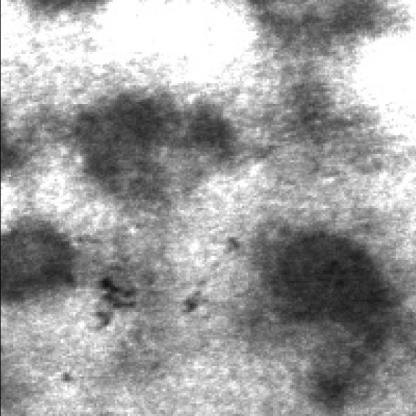patches: (266, 237, 408, 410), (260, 2, 397, 156), (75, 94, 239, 206), (6, 220, 94, 306)
